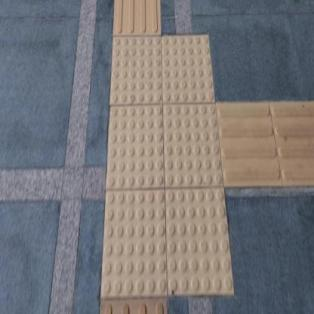Podoctatil: (91, 16, 263, 313), (227, 100, 313, 190), (114, 0, 162, 35), (100, 298, 169, 313)
